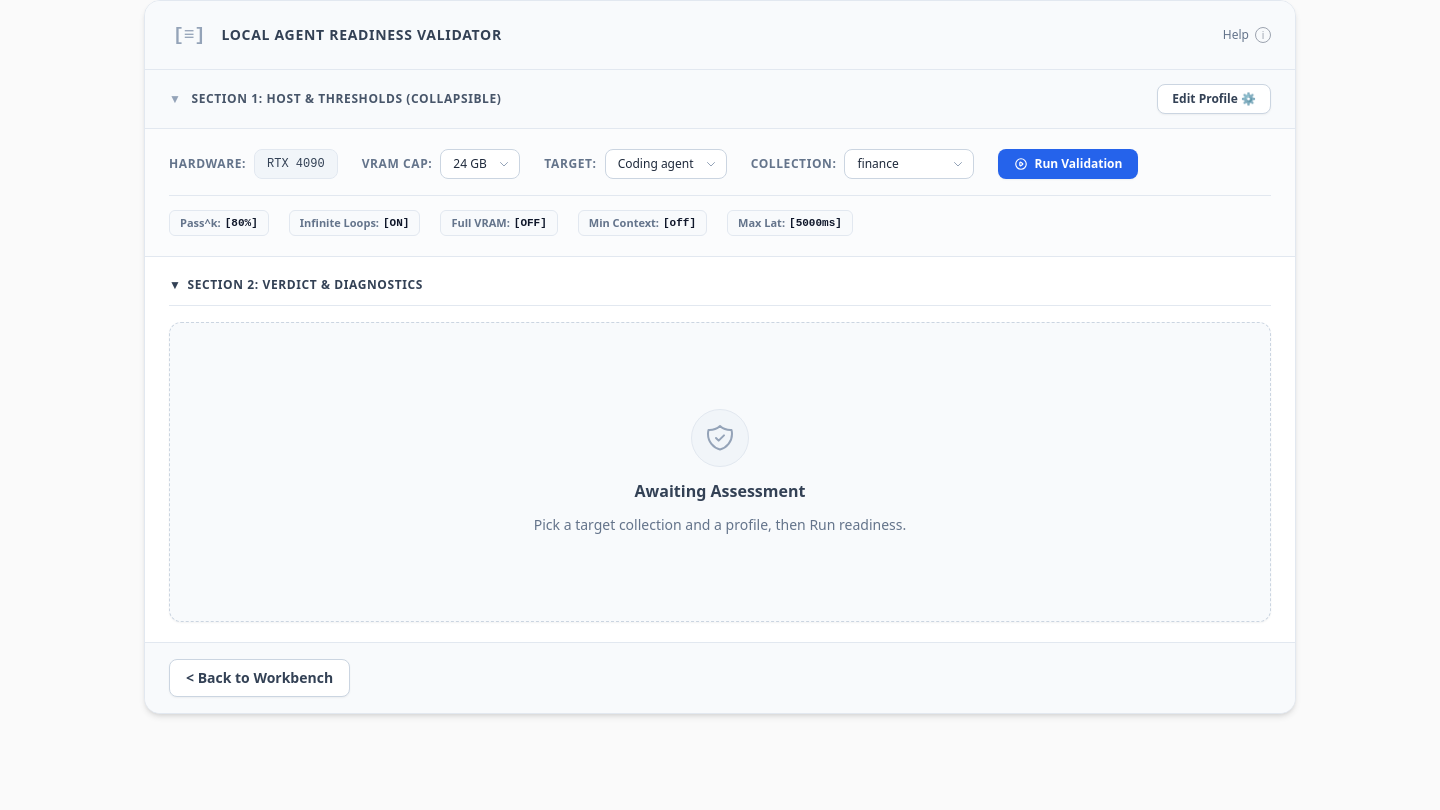
Test: AgentReportPage › shows an empty state (not a fabricated verdict) when no report is persisted
Check: the dropdown with test id "readiness-profile-select" is shown, box [605, 149, 727, 179]
Click the button with test id "readiness-run" at (1068, 164), box [998, 149, 1138, 179]
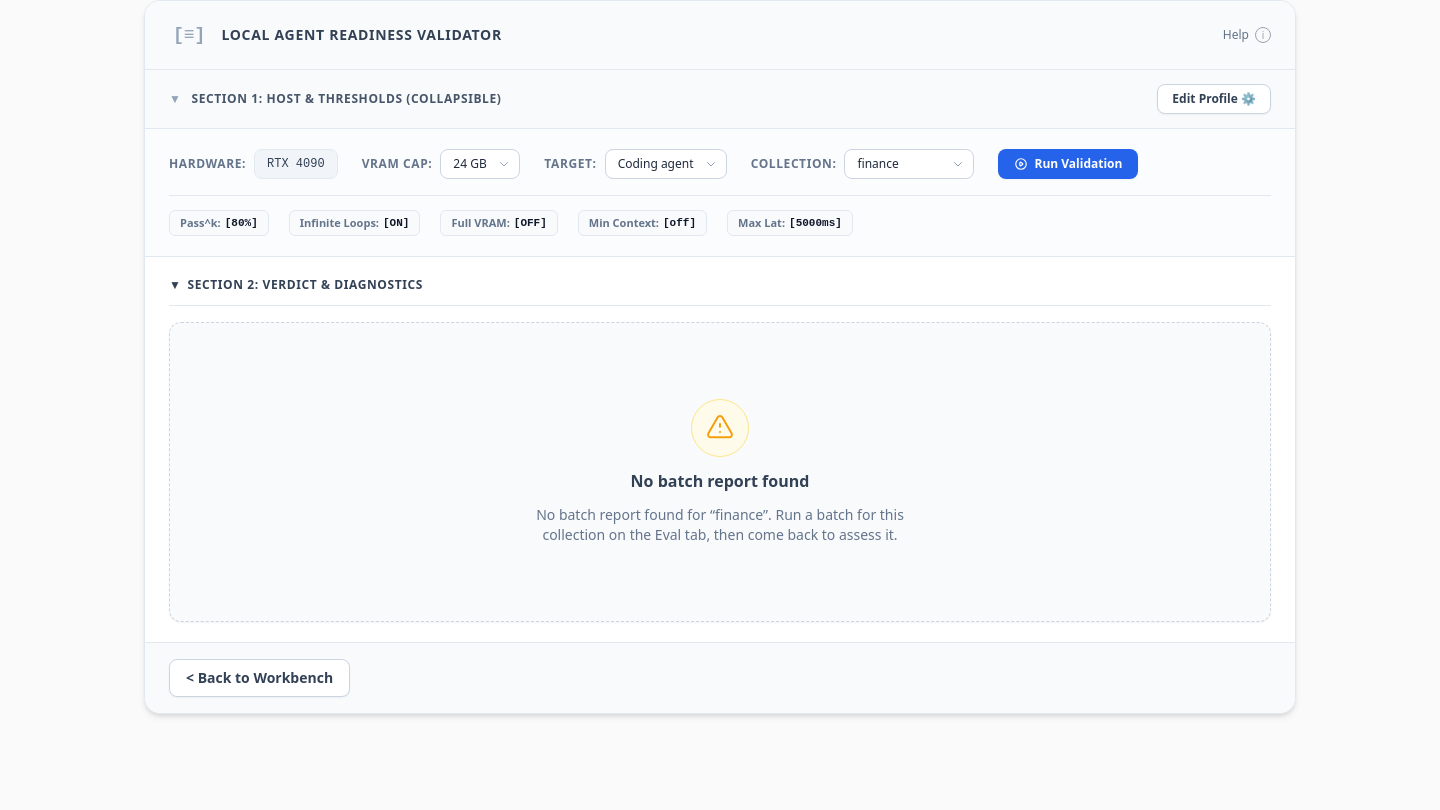
Check: the element with test id "readiness-empty" shows "No batch report found", box [631, 470, 809, 492]
